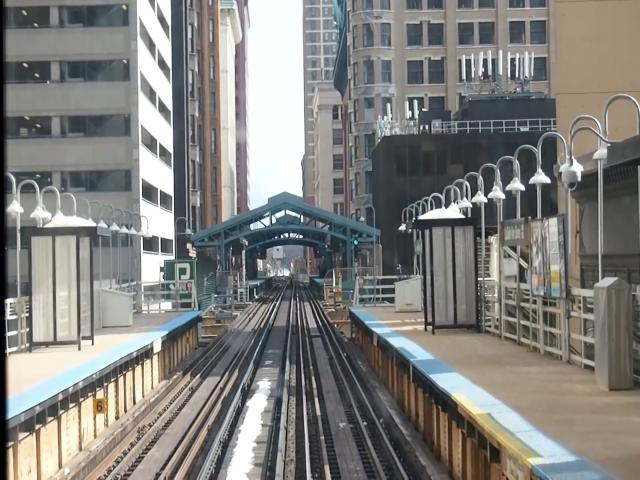signal light: (354, 238, 361, 265)
